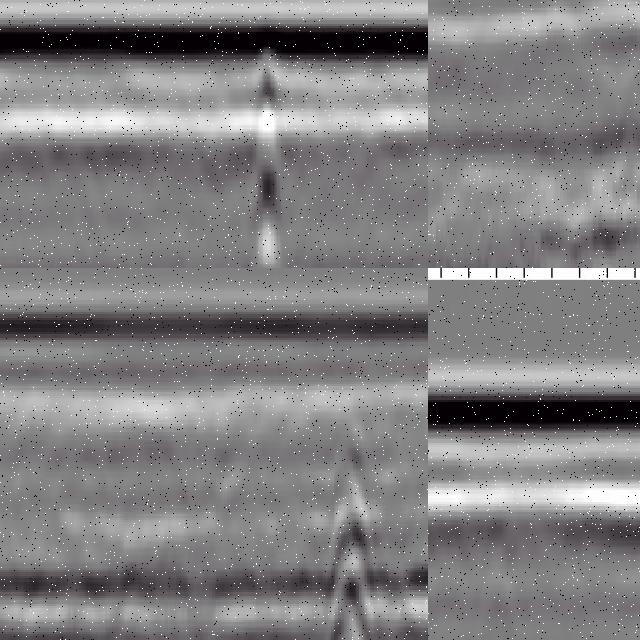crack: (317, 407, 380, 640), (251, 42, 280, 269)
